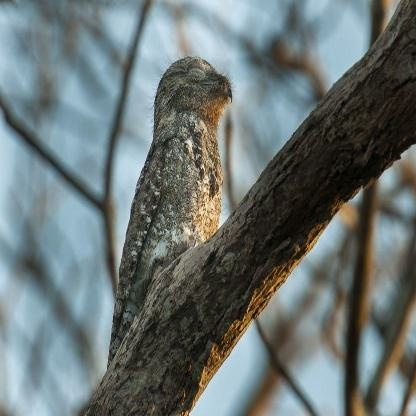Owl: (117, 56, 234, 306)
